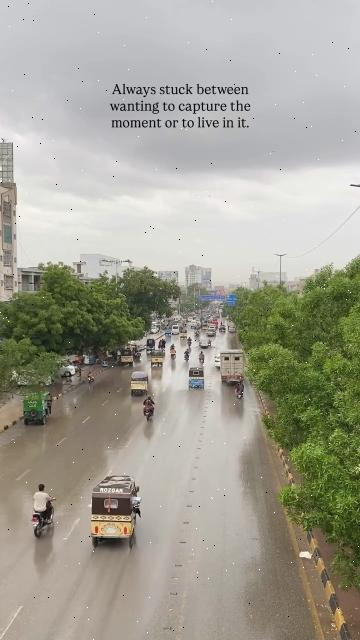Bike: (27, 509, 53, 538)
Person: (30, 479, 54, 514)
Rickshaw: (80, 467, 143, 549)
Truck: (219, 348, 247, 386)
